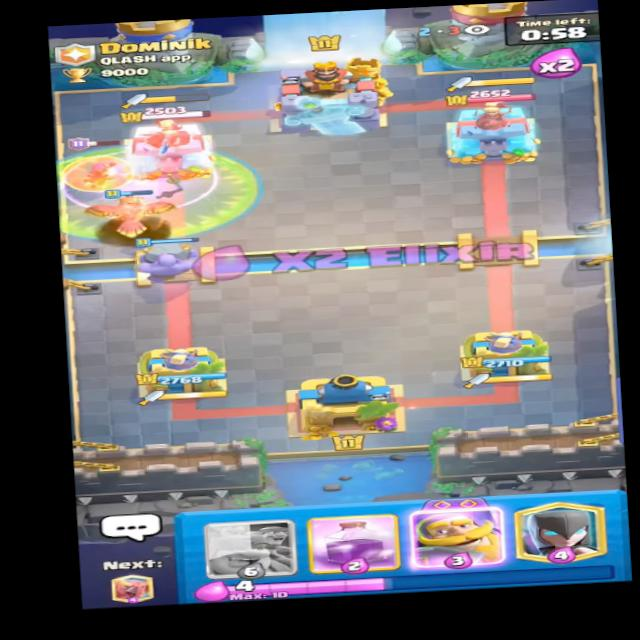evo-wizard: (61, 136, 135, 199)
